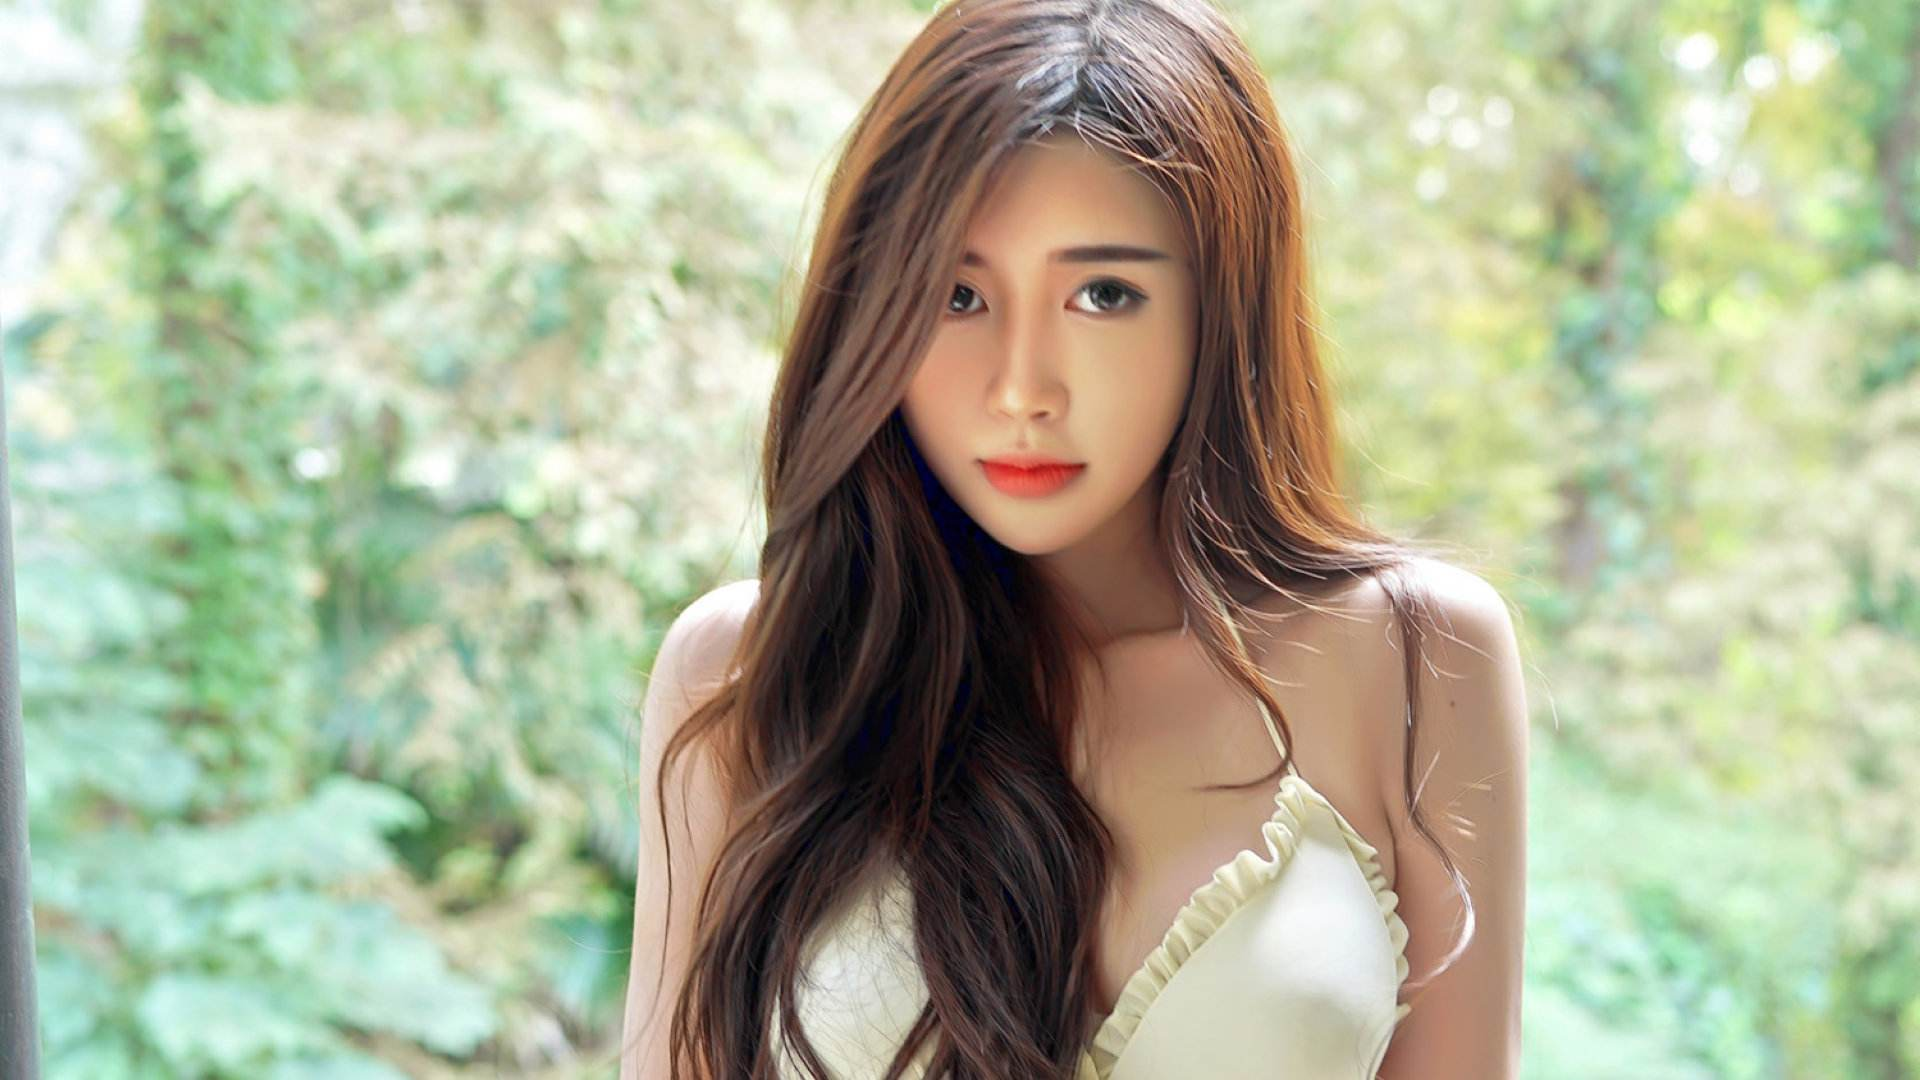person: (597, 24, 1662, 1064)
